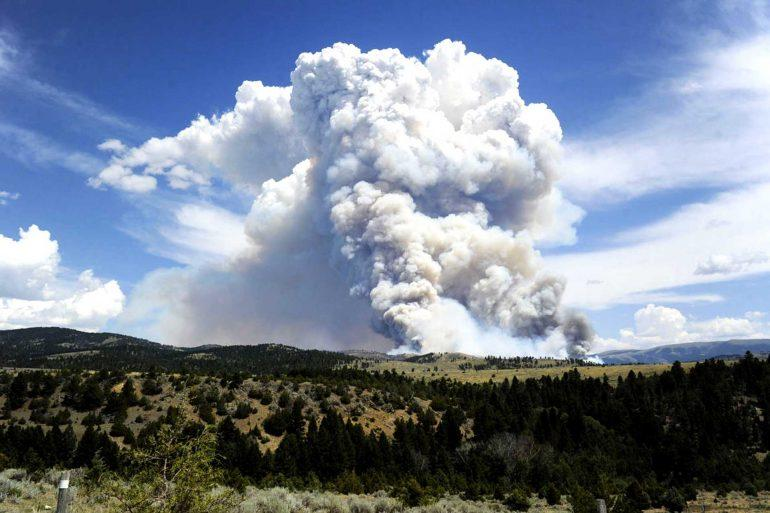smoke: (289, 39, 599, 367)
